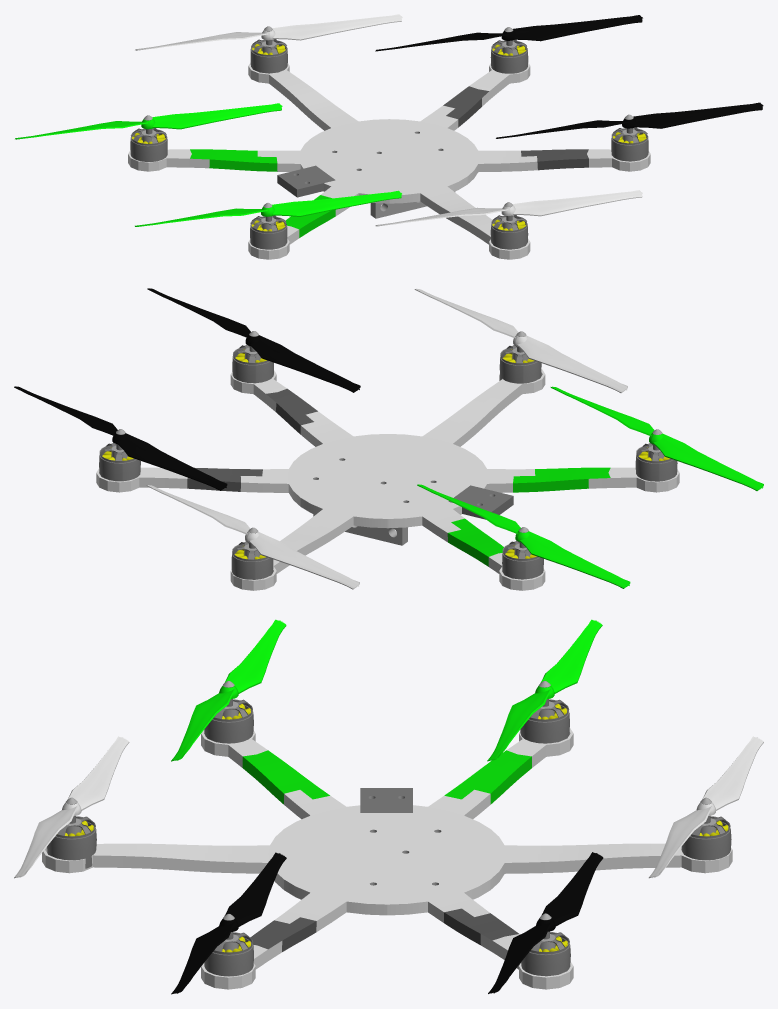
Rendered from uav_6_1.fbx.
The picture shows the model from 3 angles, top to bottom: view 1: azimuth 30°, elevation 25°; view 2: azimuth 150°, elevation 25°; view 3: azimuth 270°, elevation 25°; orthographic projection. The views are drawn at different scales.
Visible parts, largest first — view 1: coil_7_2308; view 2: coil_7_2308; view 3: coil_7_2308.
Boxes of the visible parts, box(x1,y1,x2,y2) form: coil_7_2308: box(15, 14, 763, 259); coil_7_2308: box(14, 288, 763, 590); coil_7_2308: box(14, 619, 763, 994).
Bounding box in the file's own units: 42.23 × 5.15 × 35.19.
